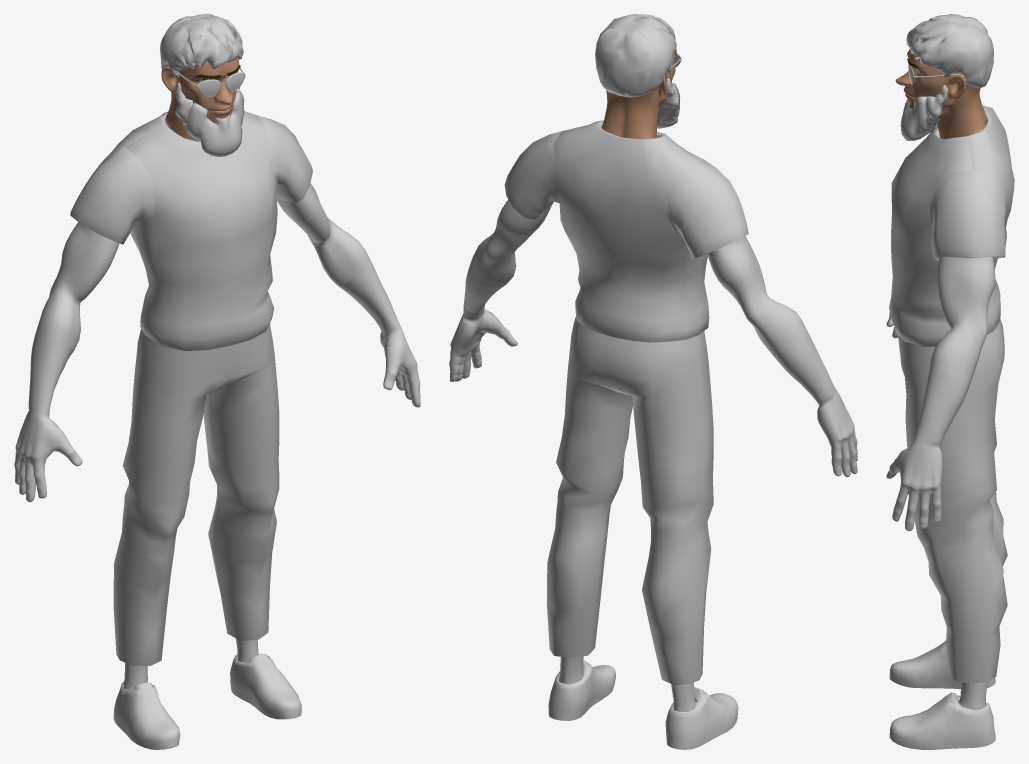
File: M Character 17.fbx
3 views of the same model, side by side, from view 1: azimuth 30°, elevation 25°; view 2: azimuth 150°, elevation 25°; view 3: azimuth 270°, elevation 25° (orthographic).
Parts seen in each view (by area): view 1: Wolf3D_Outfit_Bottom.014, Wolf3D_Outfit_Top.012, m_body.002, Wolf3D_Outfit_Footwear.013, m_body.001, m_head, Wolf3D_Hair.010, m_body.003, m_legs.002, Wolf3D_Glasses.006; view 2: Wolf3D_Outfit_Bottom.014, Wolf3D_Outfit_Top.012, m_body.002, Wolf3D_Outfit_Footwear.013, Wolf3D_Hair.010, m_body.001, m_head, m_body.003, m_legs.002; view 3: Wolf3D_Outfit_Bottom.014, Wolf3D_Outfit_Top.012, Wolf3D_Outfit_Footwear.013, m_body.002, m_head, Wolf3D_Hair.010, m_body.001, m_body.003, m_legs.002.
Boxes of the visible parts, x1,y1,x2,y2 form: Wolf3D_Outfit_Bottom.014: (113,323,279,665); Wolf3D_Outfit_Top.012: (70,111,312,350); m_body.002: (34,183,370,349); Wolf3D_Outfit_Footwear.013: (113,654,301,749); m_body.001: (14,311,420,502); m_head: (161,58,244,156); Wolf3D_Hair.010: (160,14,243,77); m_body.003: (29,260,393,400); m_legs.002: (123,638,258,726); Wolf3D_Glasses.006: (166,65,245,97); Wolf3D_Outfit_Bottom.014: (546,316,713,685); Wolf3D_Outfit_Top.012: (504,120,748,342); m_body.002: (469,199,807,357); Wolf3D_Outfit_Footwear.013: (548,660,738,749); Wolf3D_Hair.010: (595,14,676,97); m_body.001: (449,304,857,477); m_head: (601,52,680,139); m_body.003: (464,264,830,395); m_legs.002: (558,656,721,724); Wolf3D_Outfit_Bottom.014: (898,318,1007,683); Wolf3D_Outfit_Top.012: (889,105,1014,346); Wolf3D_Outfit_Footwear.013: (889,640,995,749); m_body.002: (930,256,995,382); m_head: (895,49,986,140); Wolf3D_Hair.010: (906,14,993,88); m_body.001: (886,311,944,530); m_body.003: (918,369,970,434); m_legs.002: (959,681,986,709).
Bounding box in the file's own units: 117 × 198 × 33.21.
